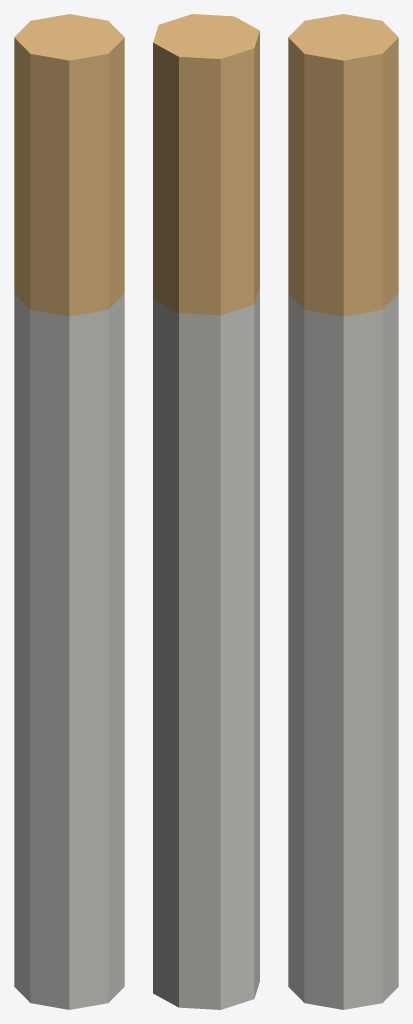
Rendered from cigarette.glb.
3 views of the same model, side by side, from view 1: azimuth 90°, elevation 25°; view 2: azimuth 150°, elevation 25°; view 3: azimuth 270°, elevation 25° (orthographic).
Parts seen in each view (by area): view 1: cigarette_mesh; view 2: cigarette_mesh; view 3: cigarette_mesh.
Boxes of the visible parts, x1,y1,x2,y2 form: cigarette_mesh: (14, 14, 124, 1009); cigarette_mesh: (153, 14, 259, 1009); cigarette_mesh: (288, 14, 398, 1009).
Bounding box in the file's own units: 0.0086 × 0.0816 × 0.0086.
